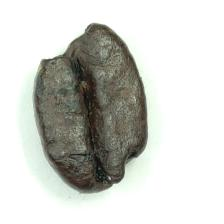NG: (35, 21, 128, 64), (114, 139, 148, 182)
